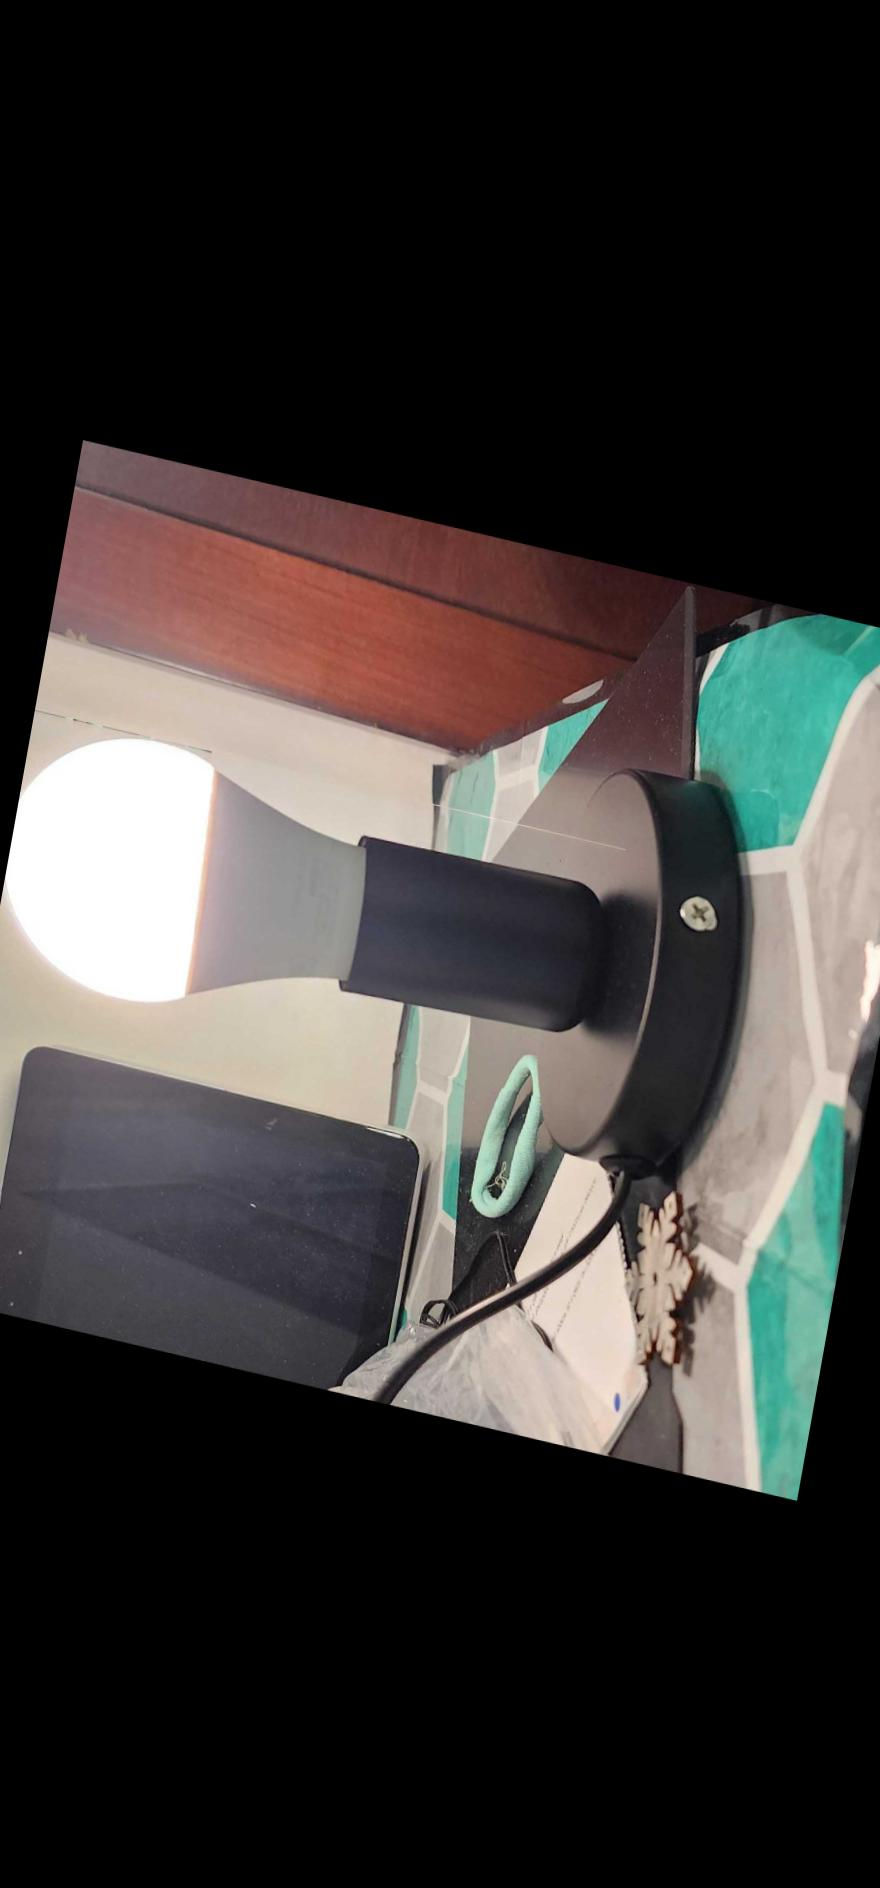TubeLight: (0, 707, 626, 1101)
